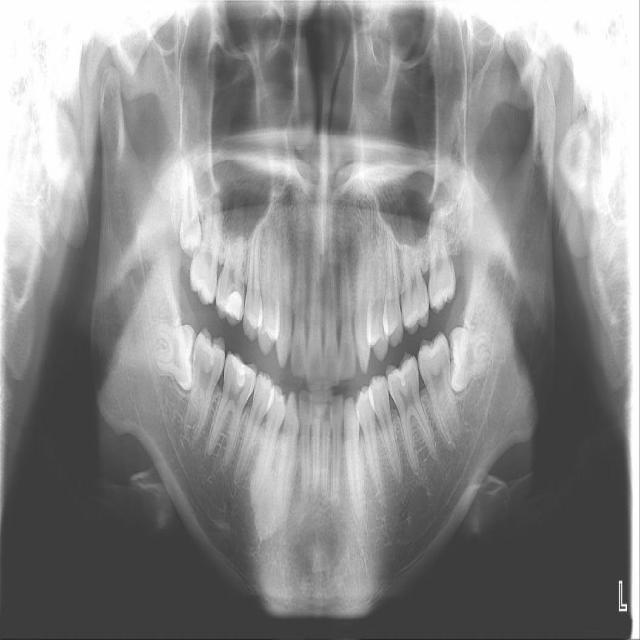3M ESPE Implant: (180, 151, 201, 258)
52: (212, 345, 271, 405), (382, 350, 423, 407), (214, 270, 246, 327)
73: (566, 494, 574, 507)
BioHorizons Implant: (427, 199, 456, 313)
Biomet 3i Implant: (448, 327, 490, 393)
Blue Sky Bio Implant: (412, 327, 465, 453)
Caries: (185, 187, 229, 307)
Implant: (181, 326, 230, 445)
Keystone Dental Implant: (154, 322, 197, 391)
